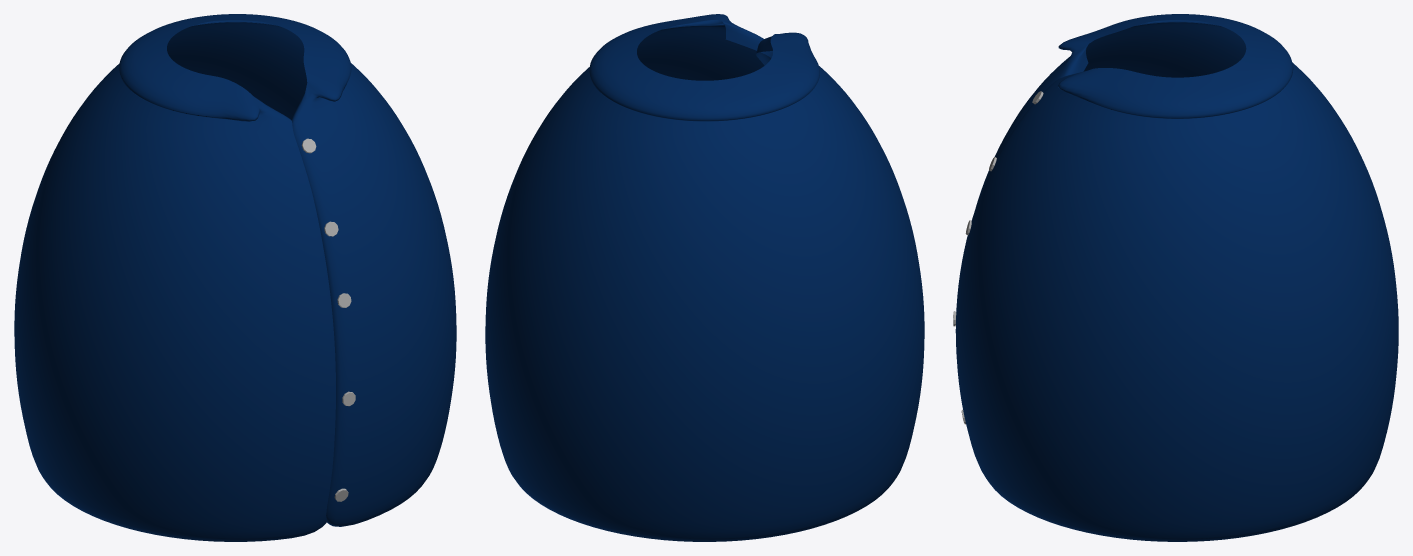
The model's file is Male Button UP.fbx.
3 renders of one model, left to right at view 1: azimuth 30°, elevation 25°; view 2: azimuth 150°, elevation 25°; view 3: azimuth 270°, elevation 25°, orthographic.
Visible parts, largest first — view 1: Male_Shirt_Collard_Smooth; view 2: Male_Shirt_Collard_Smooth; view 3: Male_Shirt_Collard_Smooth.
Part boxes in pixels (bbox=[...]): Male_Shirt_Collard_Smooth: bbox=[14, 14, 456, 541]; Male_Shirt_Collard_Smooth: bbox=[485, 14, 924, 541]; Male_Shirt_Collard_Smooth: bbox=[955, 14, 1398, 541].
Size of the model in its own units: 2.04 by 2.09 by 2.06.
